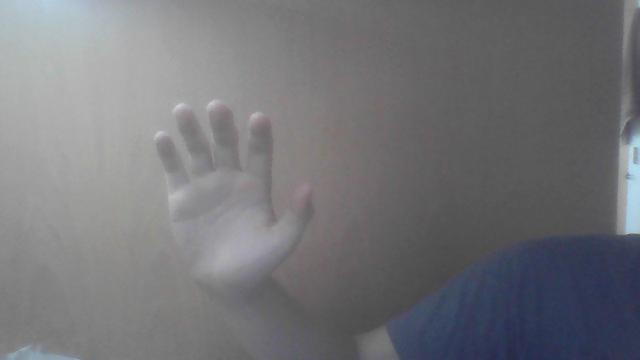Stop: (147, 100, 317, 302)
